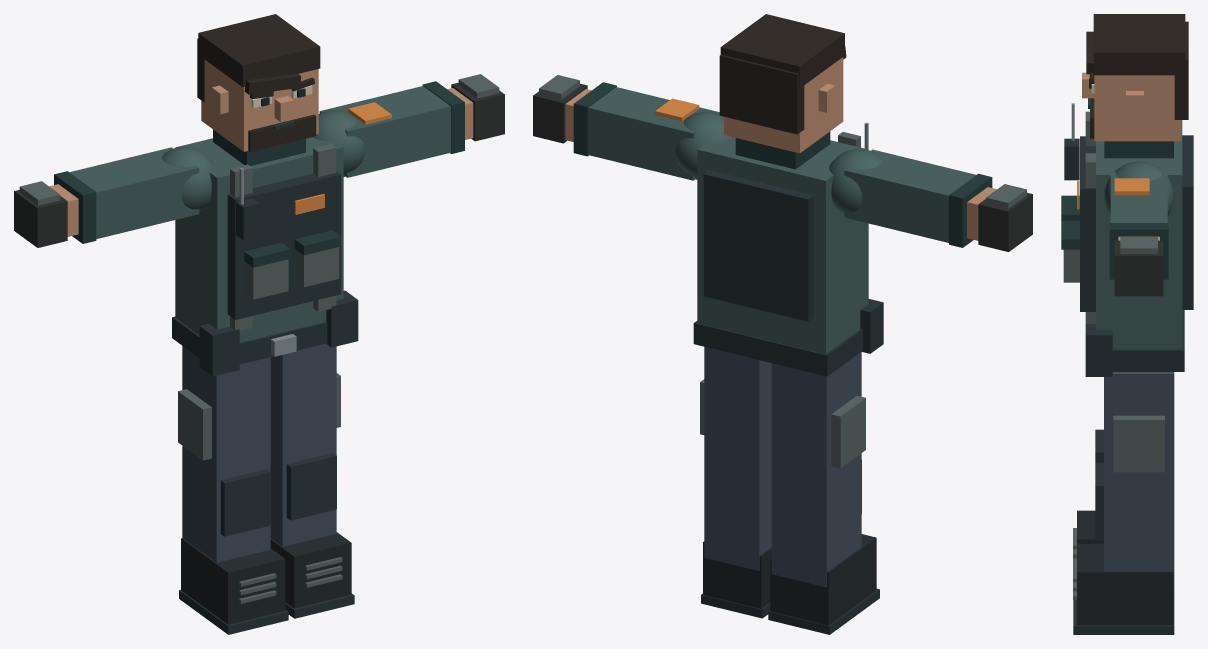
The model's file is laoen.glb.
3 views of the same model, side by side, from view 1: azimuth 30°, elevation 25°; view 2: azimuth 150°, elevation 25°; view 3: azimuth 270°, elevation 25° (orthographic). The views are drawn at different scales.
Visible parts, largest first — view 1: trousers_R, jacket_body, trousers_L, vest_front, sleeve_R, sleeve_L, hair_cap, boot_R, face, boot_L, knee_patch_L, knee_patch_R (+22 smaller); view 2: trousers_R, jacket_body, vest_back, trousers_L, sleeve_R, sleeve_L, hair_back, hair_cap, boot_R, belt, face, boot_L (+11 smaller); view 3: trousers_L, jacket_body, boot_L, hair_cap, face, cargo_pocket_L, vest_front, glove_L, sleeve_L, vest_back, belt, cuff_L (+19 smaller).
Part boxes in pixels (<box>): trousers_R: <box>182,346,270,562</box>; jacket_body: <box>175,137,343,342</box>; trousers_L: <box>270,343,336,546</box>; vest_front: <box>227,171,341,319</box>; sleeve_R: <box>69,147,199,238</box>; sleeve_L: <box>319,86,450,177</box>; hair_cap: <box>198,14,320,87</box>; boot_R: <box>181,538,285,624</box>; face: <box>201,60,318,151</box>; boot_L: <box>270,532,351,608</box>; knee_patch_L: <box>286,453,336,520</box>; knee_patch_R: <box>220,469,270,536</box>; trousers_R: <box>771,351,861,587</box>; jacket_body: <box>697,137,868,354</box>; vest_back: <box>703,170,813,321</box>; trousers_L: <box>704,346,771,570</box>; sleeve_R: <box>844,149,975,242</box>; sleeve_L: <box>588,87,719,180</box>; hair_back: <box>719,54,804,134</box>; hair_cap: <box>720,14,844,88</box>; boot_R: <box>770,534,876,625</box>; belt: <box>693,321,862,376</box>; face: <box>724,57,843,153</box>; boot_L: <box>703,541,771,608</box>; trousers_L: <box>1104,372,1174,585</box>; jacket_body: <box>1096,120,1182,349</box>; boot_L: <box>1077,543,1173,625</box>; hair_cap: <box>1093,14,1185,75</box>; face: <box>1094,75,1181,141</box>; cargo_pocket_L: <box>1113,415,1164,472</box>; vest_front: <box>1080,136,1095,311</box>; glove_L: <box>1114,240,1163,296</box>; sleeve_L: <box>1110,172,1167,222</box>; vest_back: <box>1182,135,1193,309</box>; belt: <box>1112,310,1184,371</box>; cuff_L: <box>1109,223,1168,279</box>.
Bounding box in the file's own units: 1.59 × 1.81 × 0.38.
